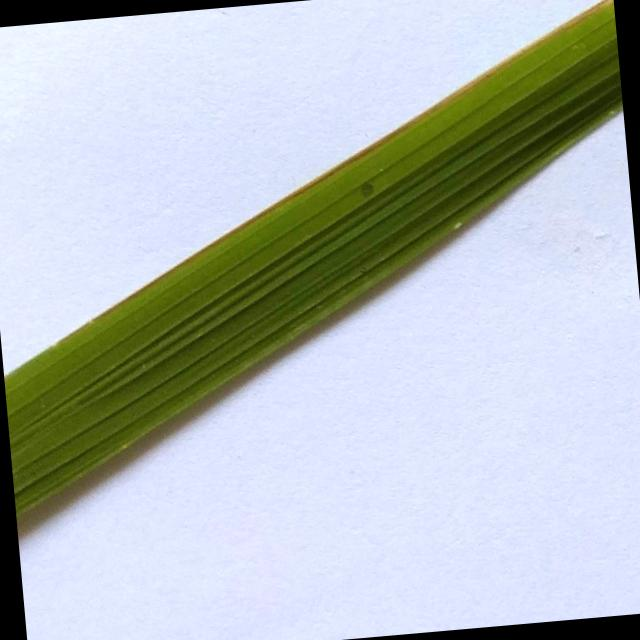Rice_Healthy: (4, 0, 622, 515)
